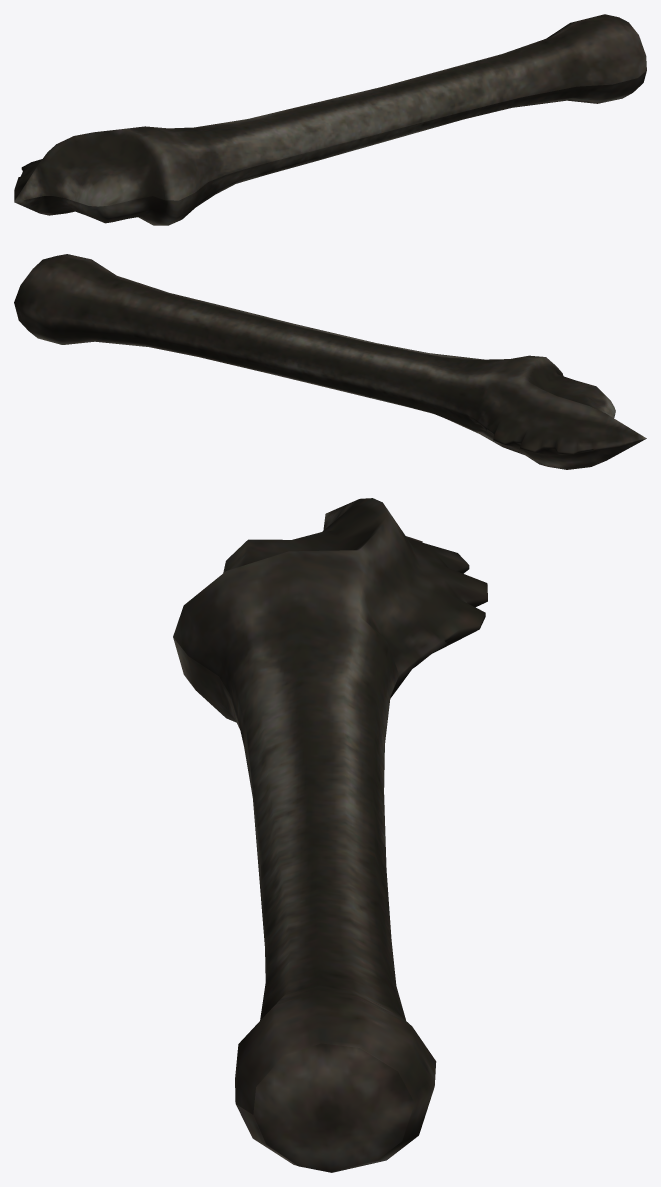
The model's file is right_arm_0.obj.
3 renders of one model, top to bottom at view 1: azimuth 30°, elevation 25°; view 2: azimuth 150°, elevation 25°; view 3: azimuth 270°, elevation 25°, orthographic. The views are drawn at different scales.
Parts seen in each view (by area): view 1: arm_1_dr_Material; view 2: arm_1_dr_Material; view 3: arm_1_dr_Material.
Boxes of the visible parts, x1,y1,x2,y2 form: arm_1_dr_Material: (14, 14, 646, 225); arm_1_dr_Material: (14, 254, 646, 469); arm_1_dr_Material: (173, 498, 487, 1172).
Bounding box in the file's own units: 0.2928 × 0.0375 × 0.0645.
